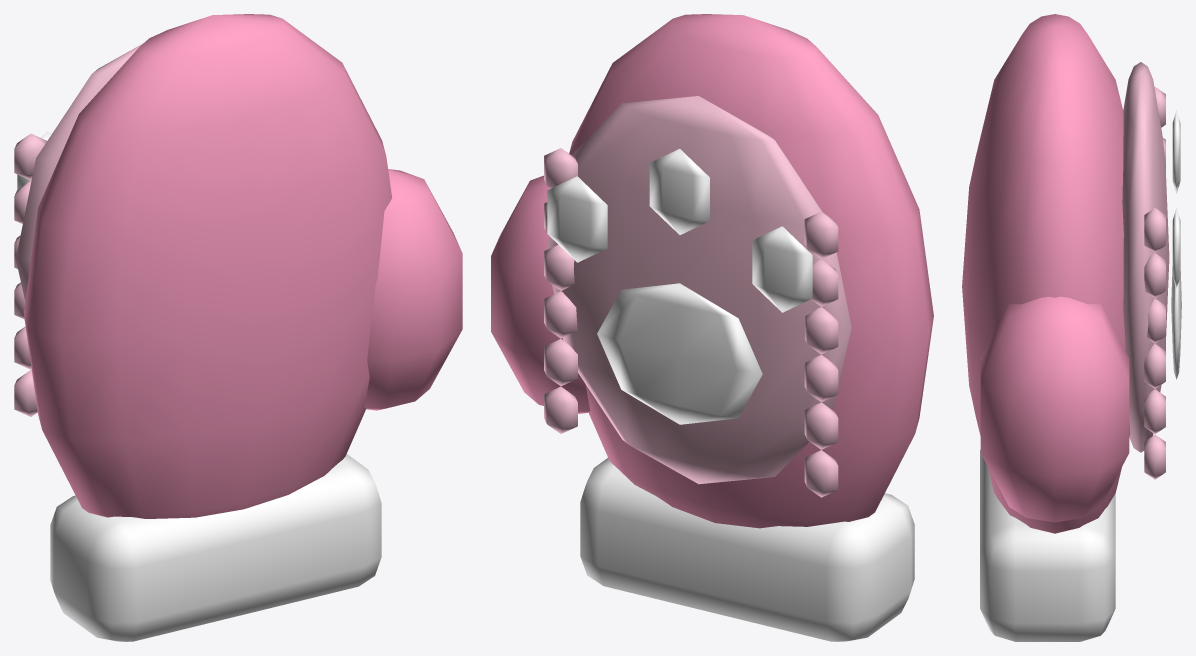
Rendered from towel_mitt.glb.
3 views of the same model, side by side, from view 1: azimuth 30°, elevation 25°; view 2: azimuth 150°, elevation 25°; view 3: azimuth 270°, elevation 25° (orthographic). The views are drawn at different scales.
Parts seen in each view (by area): view 1: Body; view 2: Body; view 3: Body.
Part boxes in pixels (x1,y1,x2,y2): Body: [14, 14, 462, 641]; Body: [491, 14, 933, 641]; Body: [962, 14, 1181, 641].
Size of the model in its own units: 0.1523 by 0.2 by 0.0711.
3 materials, 3 textured.
